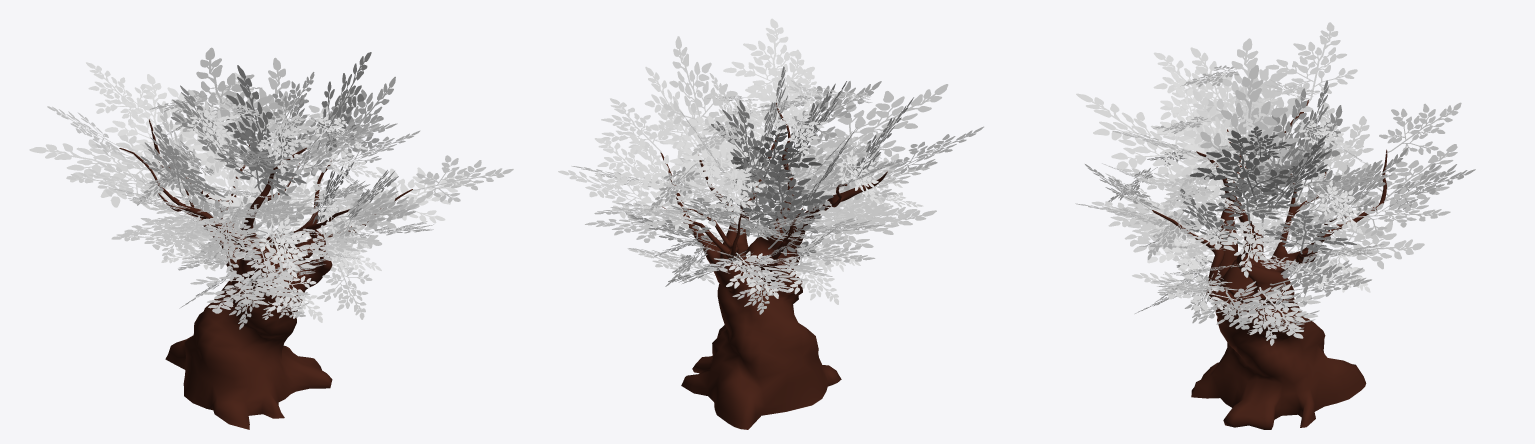
File: TreeGreen.fbx
3 renders of one model, left to right at view 1: azimuth 30°, elevation 25°; view 2: azimuth 150°, elevation 25°; view 3: azimuth 270°, elevation 25°, orthographic. The views are drawn at different scales.
Parts seen in each view (by area): view 1: Arvore.001, Folha.228, Folha.249, Folha.252, Folha.227, Folha.233, Folha.205, Folha.230, Folha.250, Folha.203, Folha.246, Folha.236 (+55 smaller); view 2: Arvore.001, Folha.261, Folha.208, Folha.250, Folha.229, Folha.210, Folha.228, Folha.244, Folha.209, Folha.224, Folha.248, Folha.206 (+45 smaller); view 3: Arvore.001, Folha.261, Folha.252, Folha.201, Folha.251, Folha.250, Folha.235, Folha.228, Folha.246, Folha.203, Folha.212, Folha.204 (+46 smaller).
Boxes of the visible parts, x1=… form: Arvore.001: x1=119, y1=119, x2=412, y2=429; Folha.228: x1=29, y1=134, x2=164, y2=207; Folha.249: x1=171, y1=47, x2=284, y2=143; Folha.252: x1=223, y1=65, x2=291, y2=183; Folha.227: x1=104, y1=74, x2=196, y2=158; Folha.233: x1=190, y1=271, x2=310, y2=313; Folha.205: x1=412, y1=155, x2=513, y2=202; Folha.230: x1=369, y1=167, x2=465, y2=223; Folha.250: x1=317, y1=52, x2=371, y2=159; Folha.203: x1=86, y1=62, x2=152, y2=125; Folha.246: x1=217, y1=130, x2=306, y2=195; Folha.236: x1=192, y1=119, x2=264, y2=219; Arvore.001: x1=660, y1=103, x2=887, y2=429; Folha.261: x1=807, y1=84, x2=948, y2=162; Folha.208: x1=723, y1=18, x2=814, y2=104; Folha.250: x1=663, y1=36, x2=737, y2=147; Folha.229: x1=742, y1=163, x2=833, y2=233; Folha.210: x1=629, y1=133, x2=697, y2=230; Folha.228: x1=703, y1=255, x2=816, y2=292; Folha.244: x1=663, y1=112, x2=738, y2=184; Folha.209: x1=644, y1=66, x2=701, y2=158; Folha.224: x1=686, y1=106, x2=779, y2=190; Folha.248: x1=732, y1=124, x2=821, y2=182; Folha.206: x1=558, y1=170, x2=663, y2=218; Arvore.001: x1=1152, y1=100, x2=1387, y2=429; Folha.261: x1=1076, y1=93, x2=1197, y2=184; Folha.252: x1=1200, y1=65, x2=1307, y2=190; Folha.201: x1=1265, y1=22, x2=1357, y2=103; Folha.251: x1=1202, y1=38, x2=1313, y2=142; Folha.250: x1=1190, y1=130, x2=1289, y2=203; Folha.235: x1=1317, y1=204, x2=1424, y2=282; Folha.228: x1=1345, y1=144, x2=1457, y2=206; Folha.246: x1=1181, y1=90, x2=1253, y2=197; Folha.203: x1=1379, y1=102, x2=1461, y2=155; Folha.212: x1=1157, y1=70, x2=1230, y2=161; Folha.204: x1=1348, y1=187, x2=1450, y2=236.
Bounding box in the file's own units: 957 × 734 × 936.
